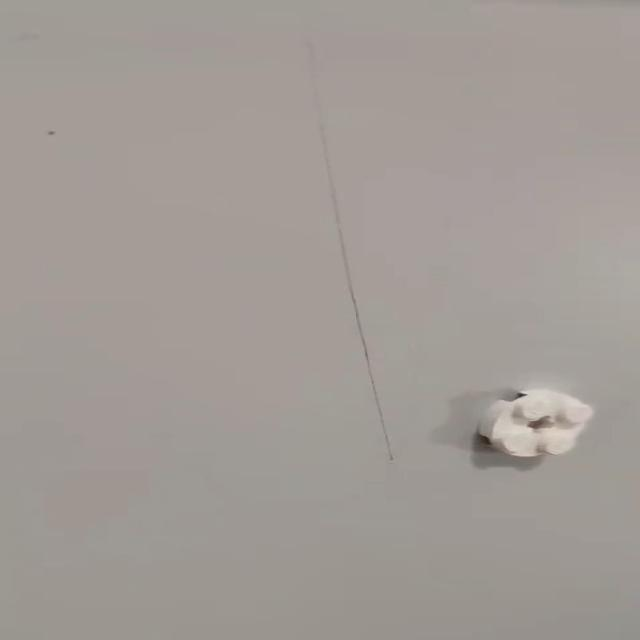S2x2x0: (469, 388, 599, 461)
